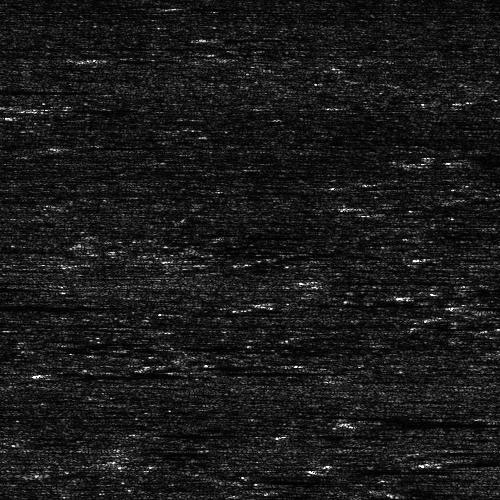object: (409, 454, 482, 467), (290, 418, 383, 425), (55, 371, 108, 378), (180, 368, 233, 373), (0, 83, 21, 92), (0, 244, 9, 253)
shadow: (336, 418, 500, 425), (0, 300, 104, 311), (82, 371, 234, 378), (0, 83, 83, 92), (445, 454, 500, 467), (0, 244, 62, 253), (207, 368, 314, 373), (0, 277, 57, 282), (439, 160, 500, 163)
